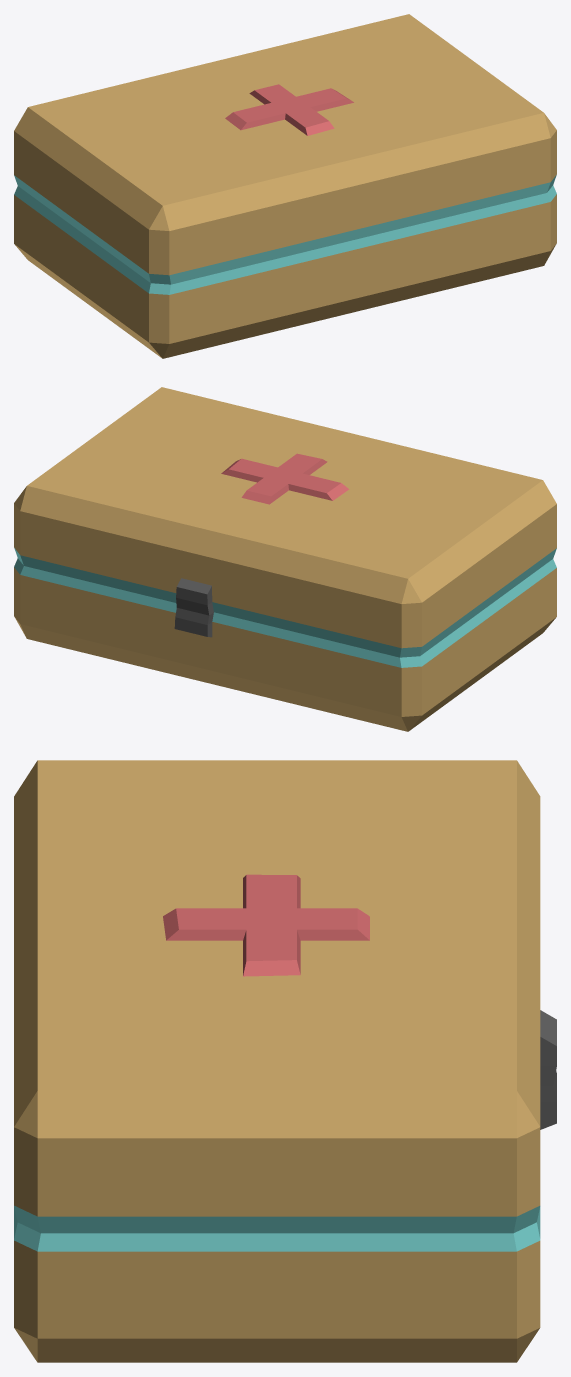
The model's file is medicare.fbx.
3 views of the same model, one above another, from view 1: azimuth 30°, elevation 25°; view 2: azimuth 150°, elevation 25°; view 3: azimuth 270°, elevation 25° (orthographic). The views are drawn at different scales.
Parts seen in each view (by area): view 1: Cube; view 2: Cube; view 3: Cube.
Part boxes in pixels (x1,y1,x2,y2): Cube: (14,14,556,358); Cube: (14,387,556,731); Cube: (14,760,556,1362).
Bounding box in the file's own units: 200 × 77.57 × 130.
